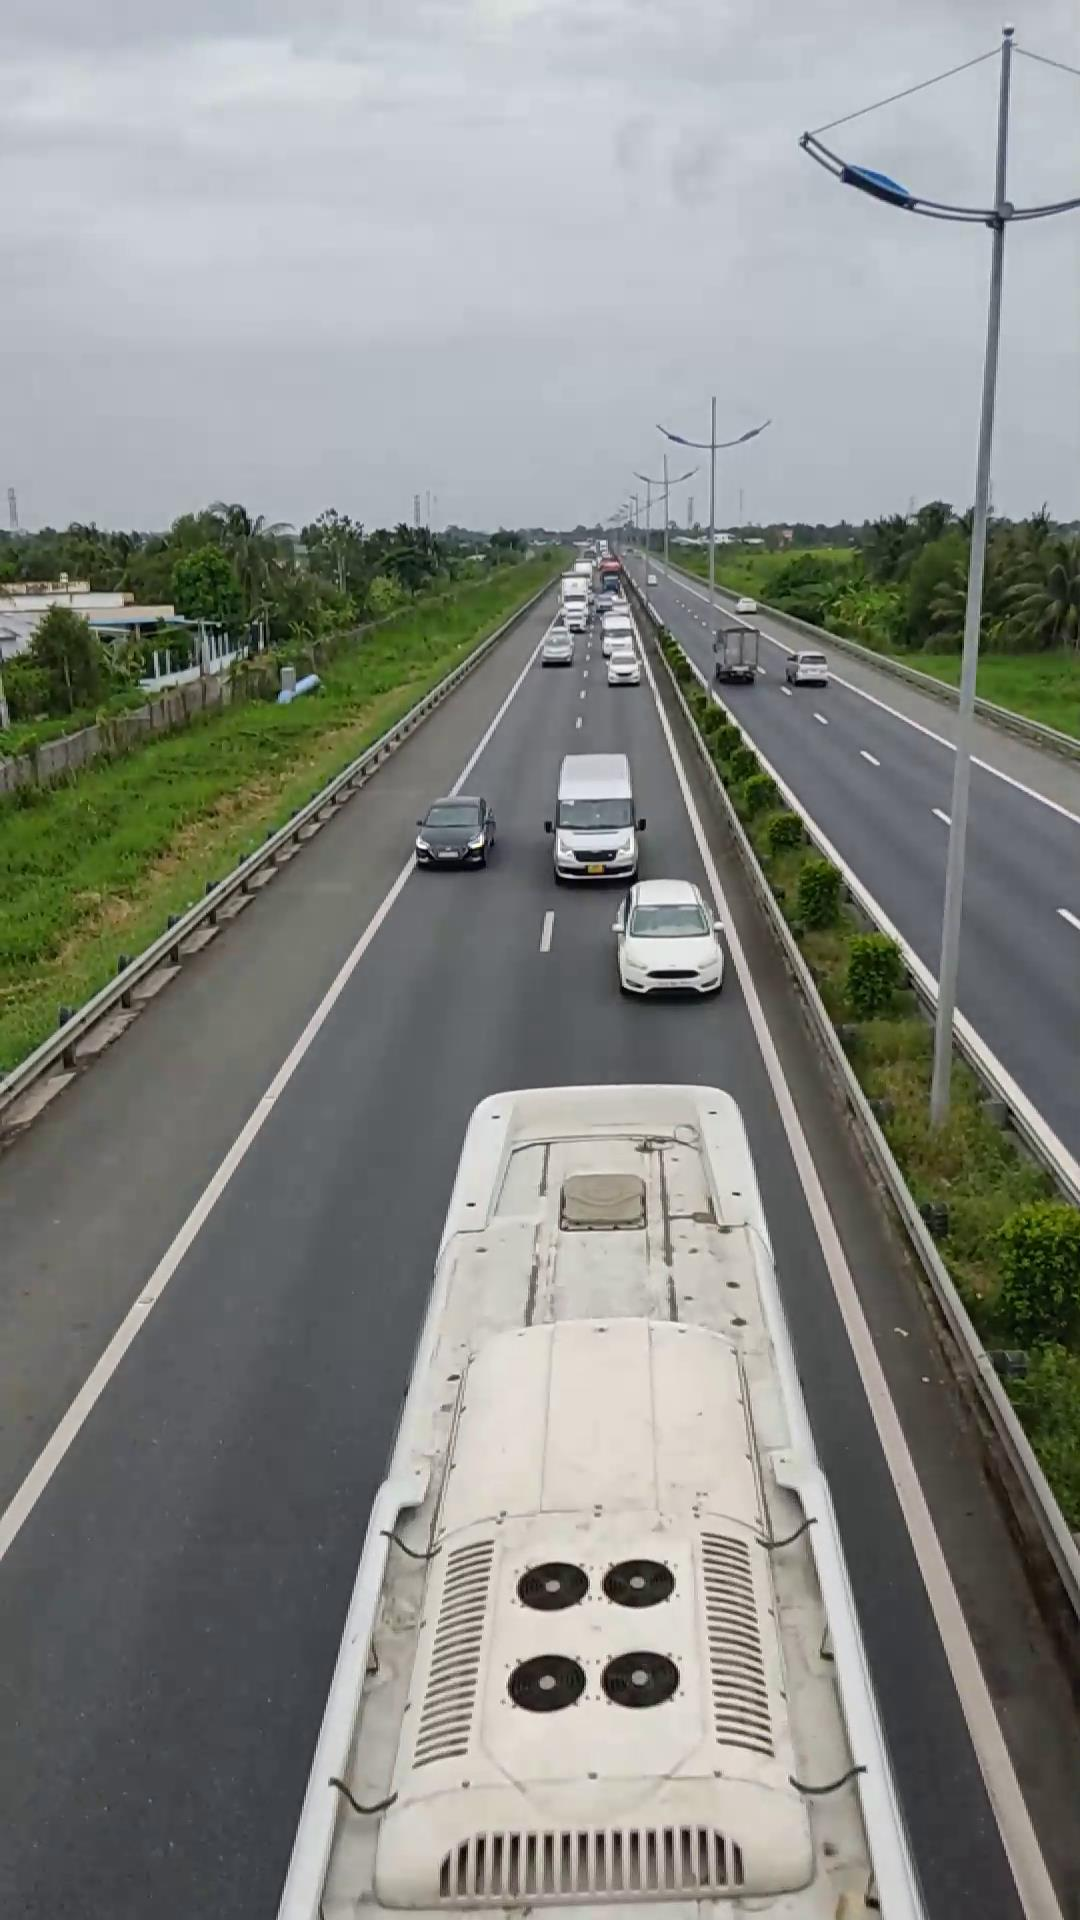bus: (280, 1077, 905, 1917)
car: (611, 877, 724, 997), (545, 750, 646, 884), (414, 793, 497, 868)
